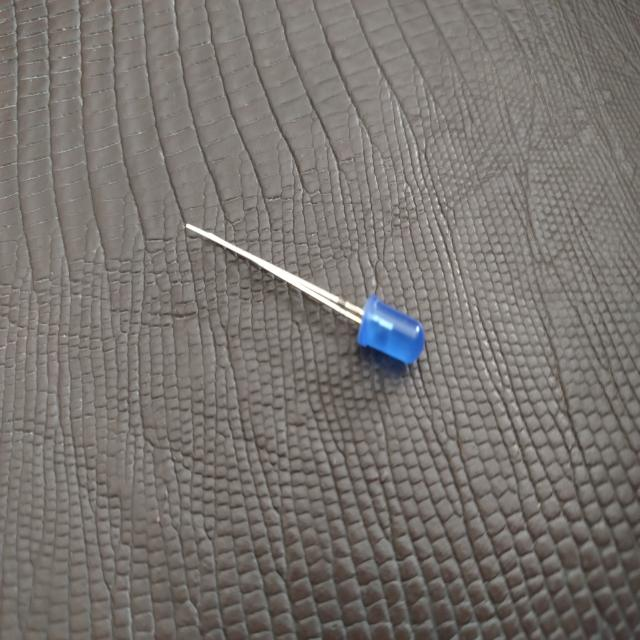blue_led: (356, 293, 425, 367)
